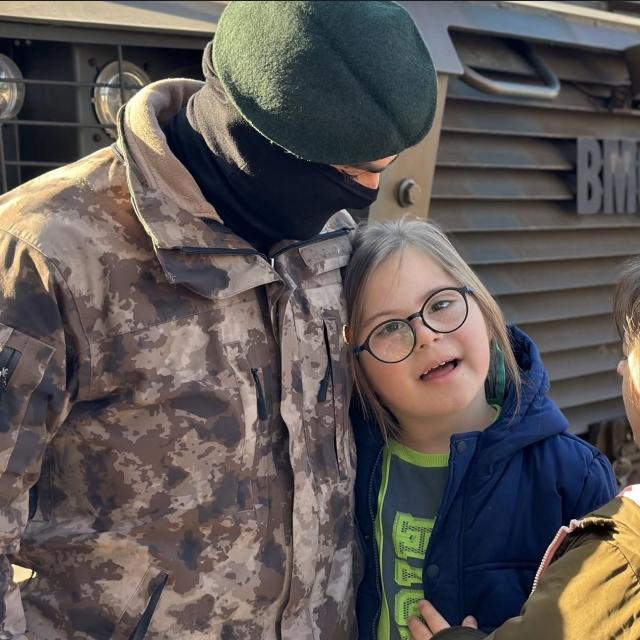poh_personel: (0, 1, 435, 640)
